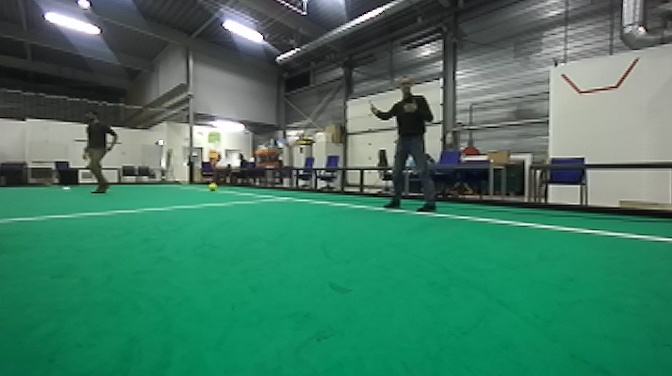ball: (207, 180, 219, 192)
human: (372, 78, 444, 218), (77, 115, 117, 191)
